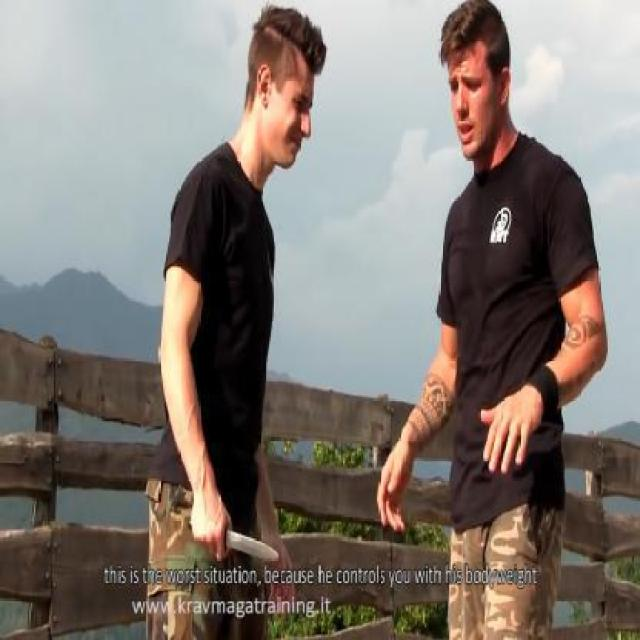knife: (185, 509, 282, 566)
